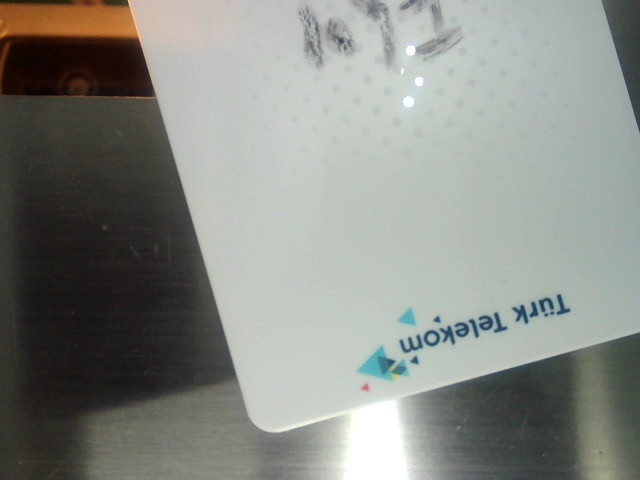AQ_TURKTelekom: (339, 288, 575, 390)
